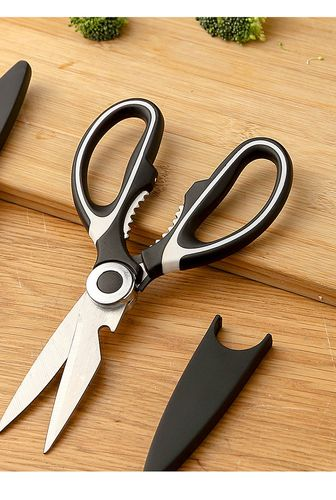scissor: (1, 99, 294, 449)
